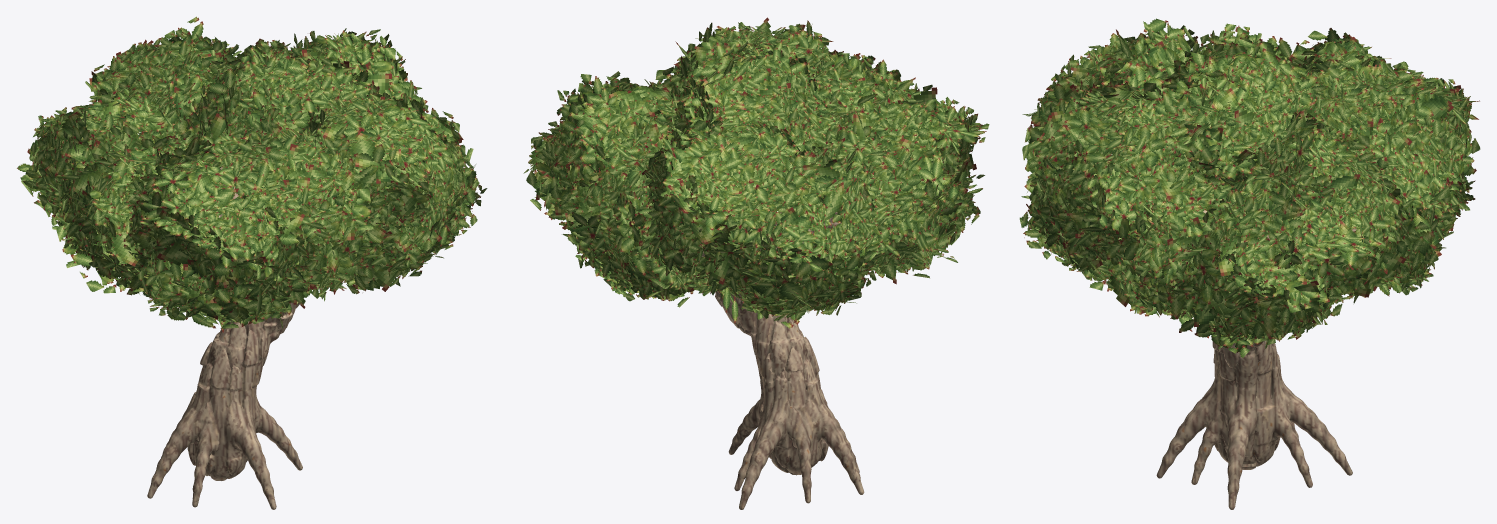
The model's file is macieira_v2_tronco_folhas_planes80.glb.
3 views of the same model, side by side, from view 1: azimuth 30°, elevation 25°; view 2: azimuth 150°, elevation 25°; view 3: azimuth 270°, elevation 25° (orthographic). The views are drawn at different scales.
Parts seen in each view (by area): view 1: macieira_inclinada; view 2: macieira_inclinada; view 3: macieira_inclinada.
Part boxes in pixels (x1,y1,x2,y2): macieira_inclinada: [17, 16, 487, 509]; macieira_inclinada: [523, 17, 989, 509]; macieira_inclinada: [1019, 18, 1480, 509].
Size of the model in its own units: 6.16 by 6.34 by 5.79.
Materials: 2 (1 with a texture image).
